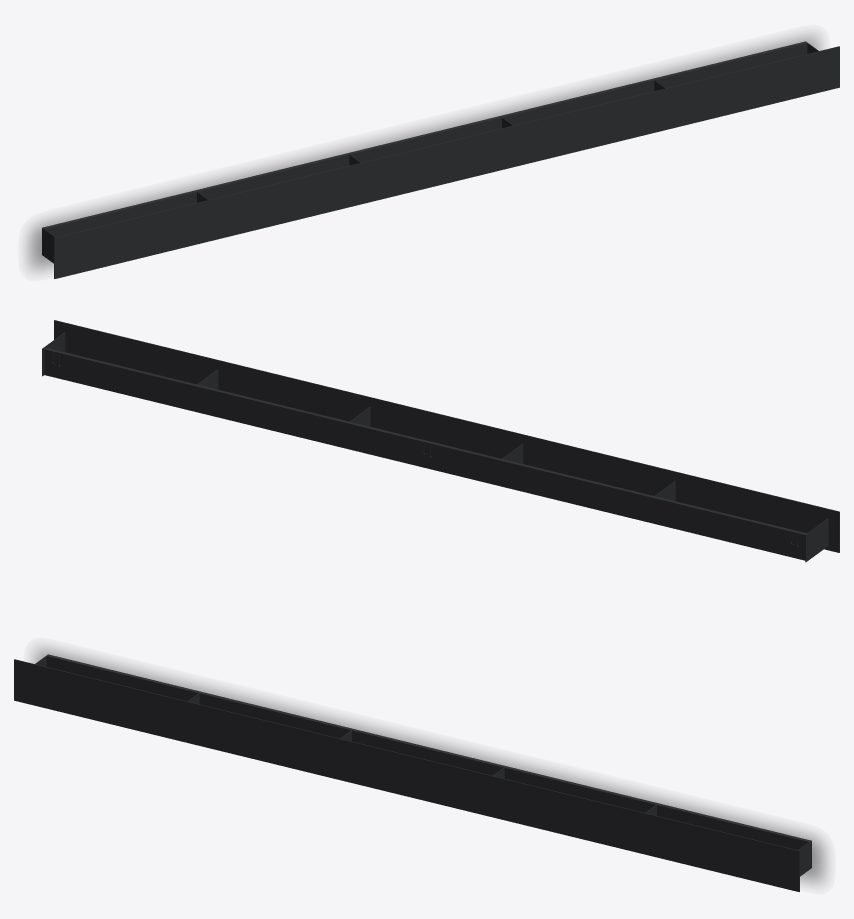
Rendered from skyline-mono.209a6b9c6e.ar.glb.
3 views of the same model, one above another, from view 1: azimuth 30°, elevation 25°; view 2: azimuth 150°, elevation 25°; view 3: azimuth 330°, elevation 25° (orthographic).
Parts seen in each view (by area): view 1: NAUO1, object 2; view 2: NAUO1; view 3: NAUO1, object 2.
Part boxes in pixels (bbox=[...]): NAUO1: bbox=[42, 41, 839, 278]; object 2: bbox=[26, 34, 821, 271]; NAUO1: bbox=[42, 320, 839, 562]; NAUO1: bbox=[14, 654, 811, 891]; object 2: bbox=[32, 647, 827, 884].
Size of the model in its own units: 1.88 by 0.17 by 0.092.
Materials: 2 (1 with a texture image).
